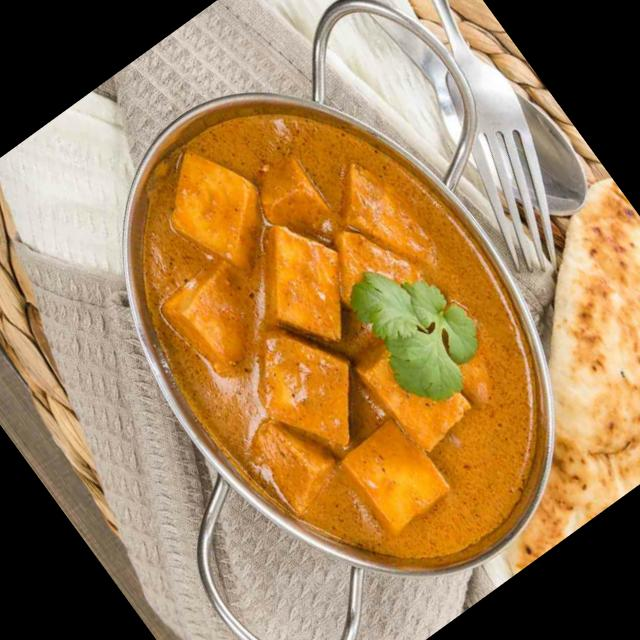ShahiPaneer: (63, 41, 619, 634)
